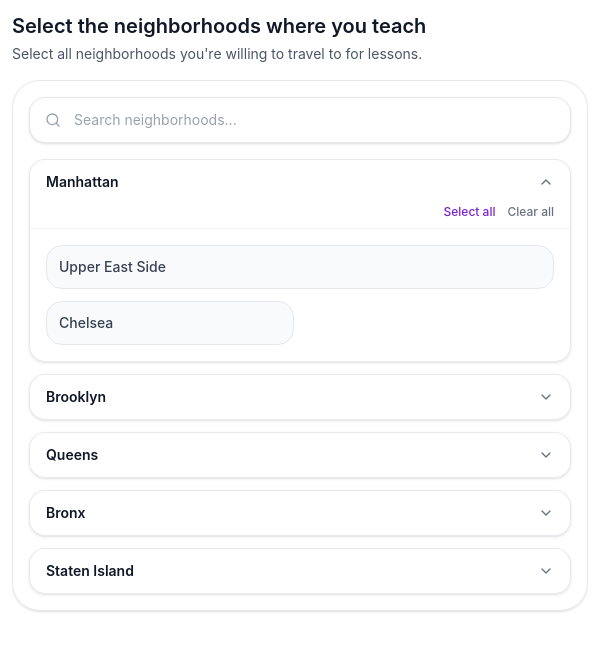
Test case: NeighborhoodSelector › normalizes apostrophes in search text
The width and height of the screenshot is (605, 653).
Type "princes bay" into the field with test id "neighborhood-search-input" at (300, 120), box [29,97,571,143]
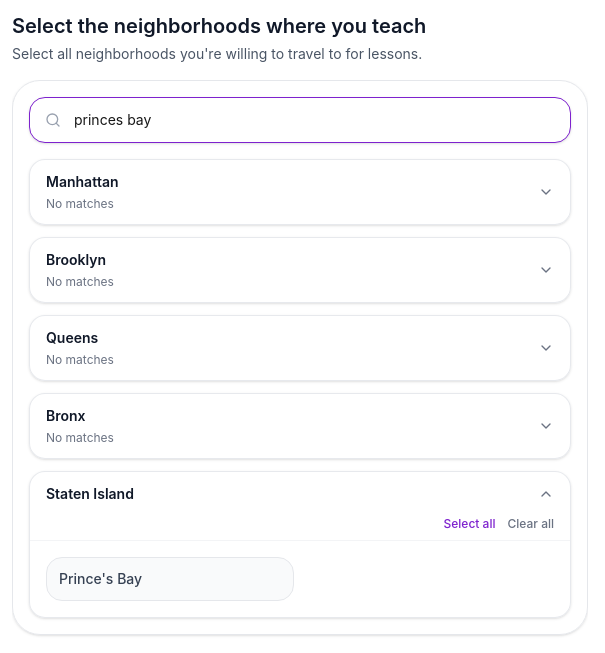
Expected: the element with test id "neighborhood-borough-staten-island" is shown, [29,471,571,618]
Now the text "Prince's Bay" is shown, box [59,569,142,589]
